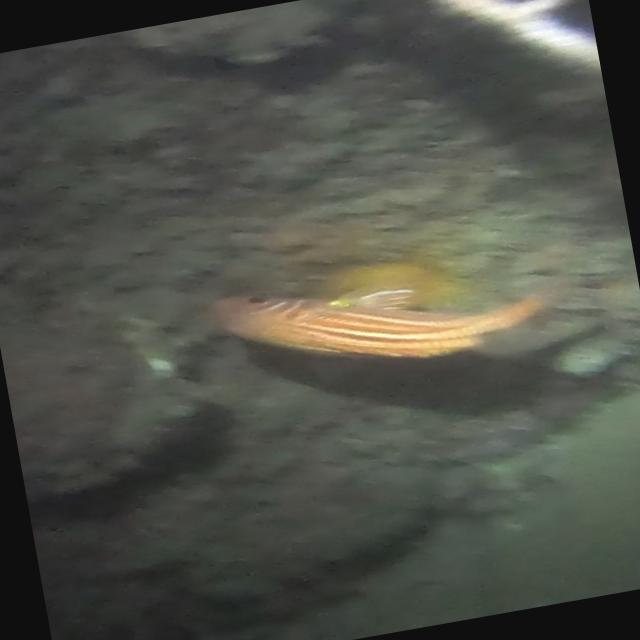Asker Baligi: (174, 214, 591, 406)
